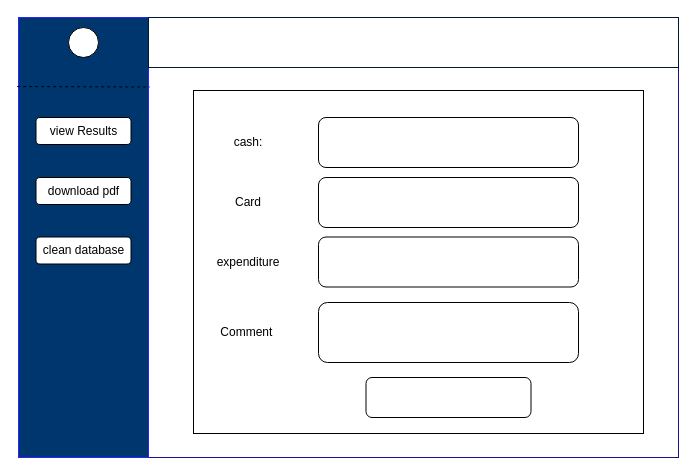
Some shapes in this 697 by 475 pixel diagram are drawn without their labels. Each missing label, with the centre of its shape:
save: (448,397)
Seat Cafe: (413,42)
